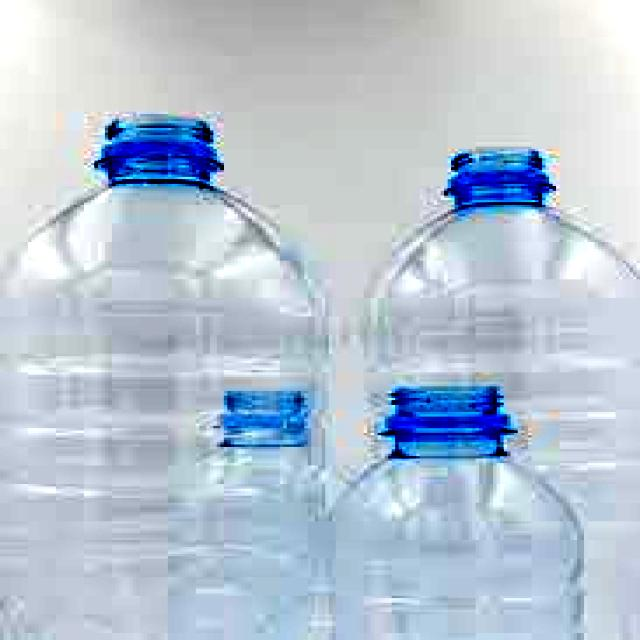Plastic: (0, 107, 341, 640), (321, 383, 594, 640), (356, 139, 640, 376)
